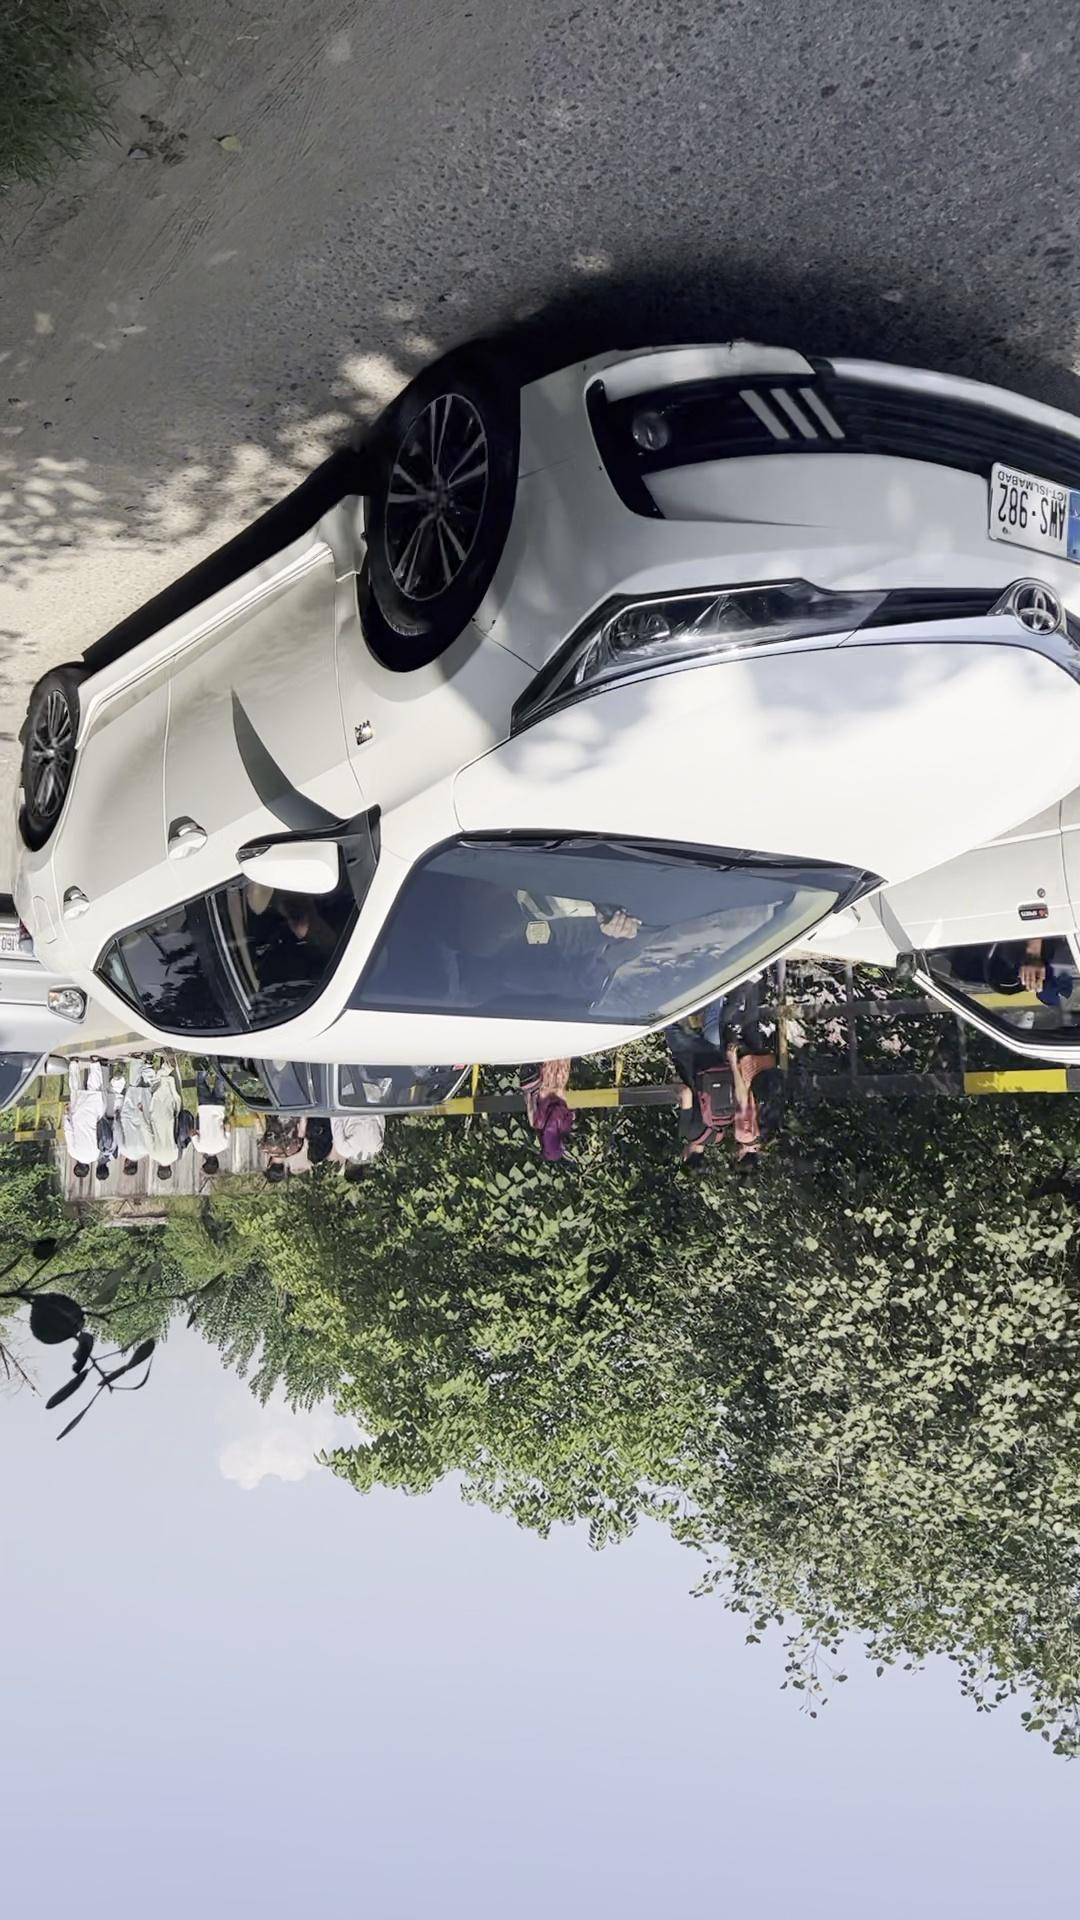windshield: (175, 880, 742, 1125)
